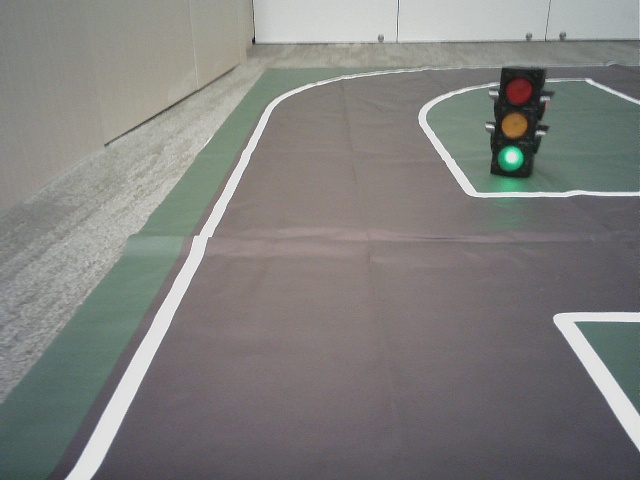green: (497, 70, 528, 173)
